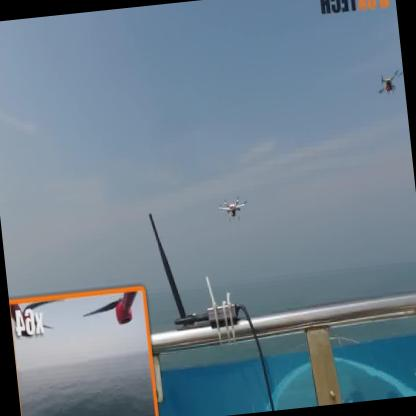drone: (215, 190, 252, 227), (374, 65, 406, 102)
